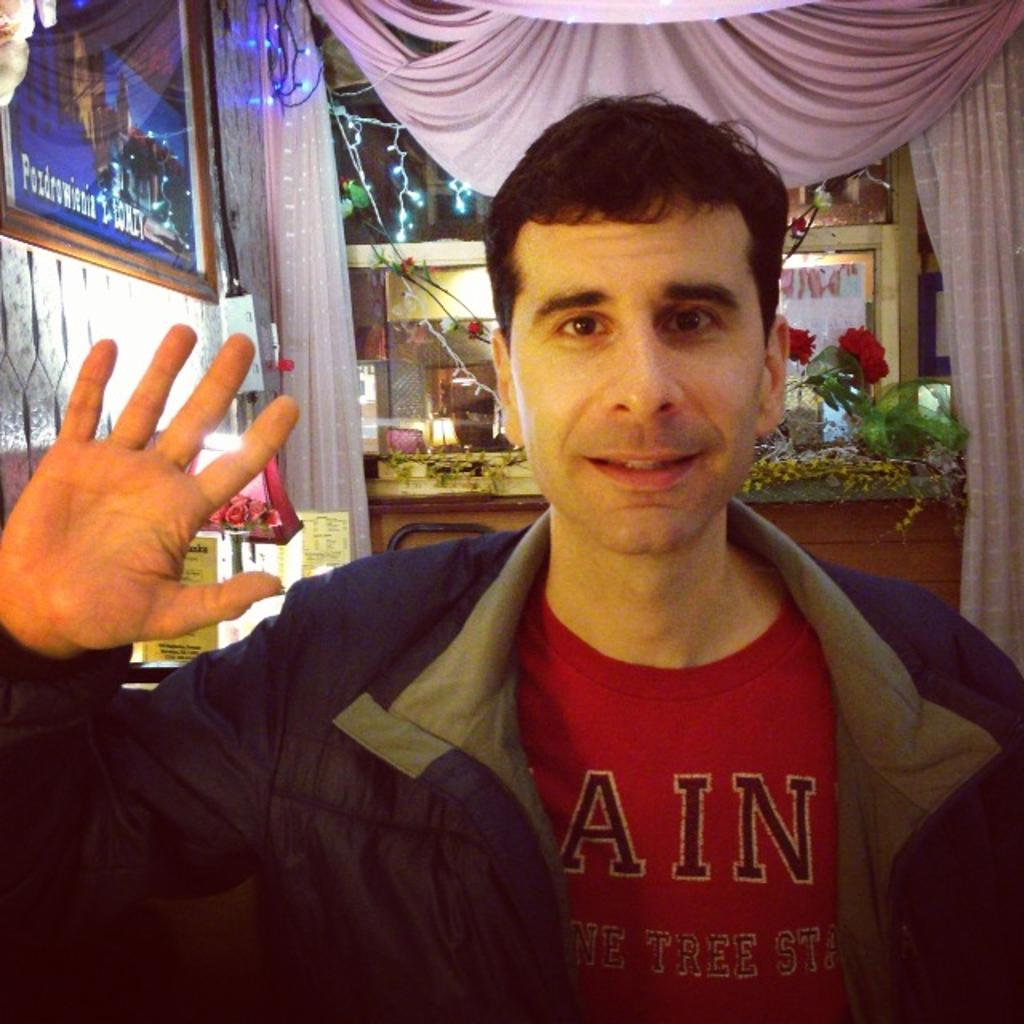face: (504, 188, 770, 550)
